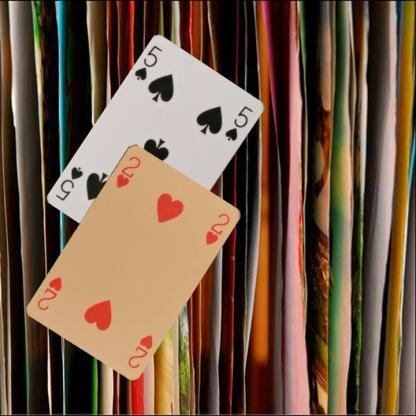2h: (125, 332, 154, 369), (113, 153, 142, 189)
5s: (132, 42, 164, 82)
